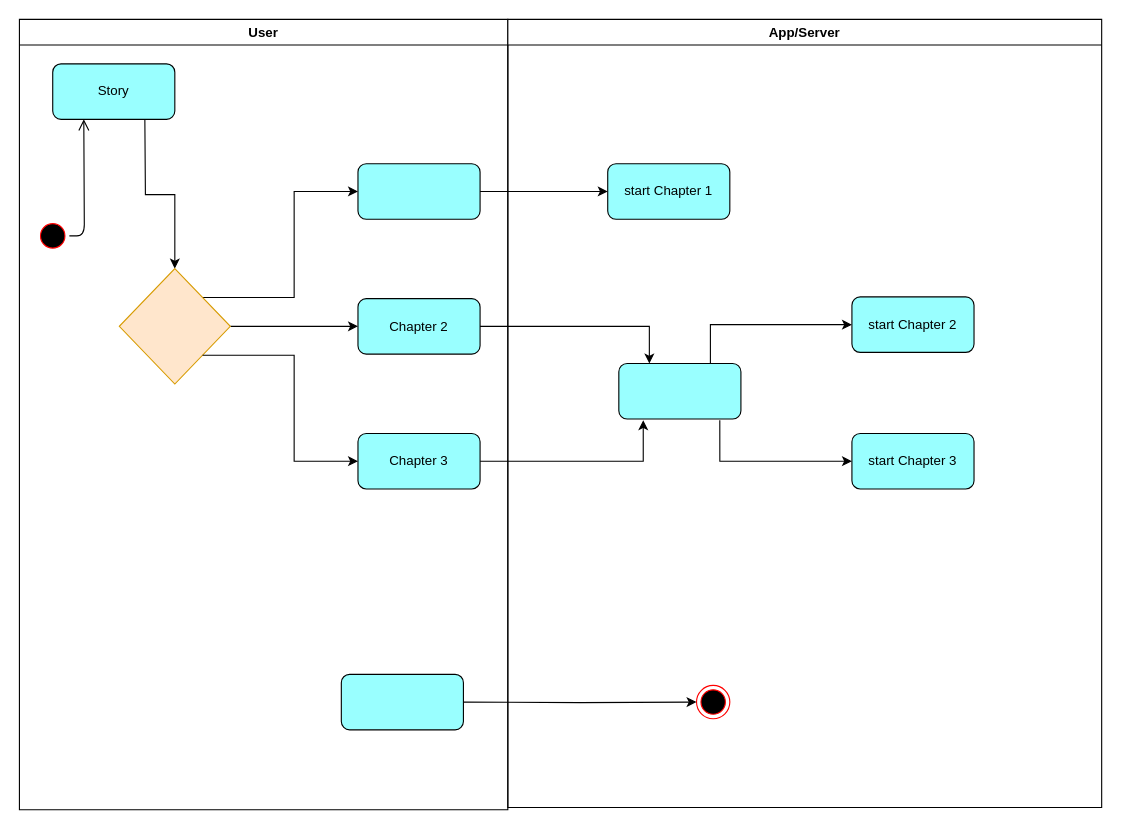
The diagram is 1121 pixels wide and 829 high, and some of its shapes have lost their labels. The shapes that lost their labels are listed below. From the top down, each one's centre as x and y in pixels, then its label:
At (418,191): "Chapter 1".
At (174,326): "choose from menu".
At (679,390): "check if unlocked".
At (401,701): "stop application".
